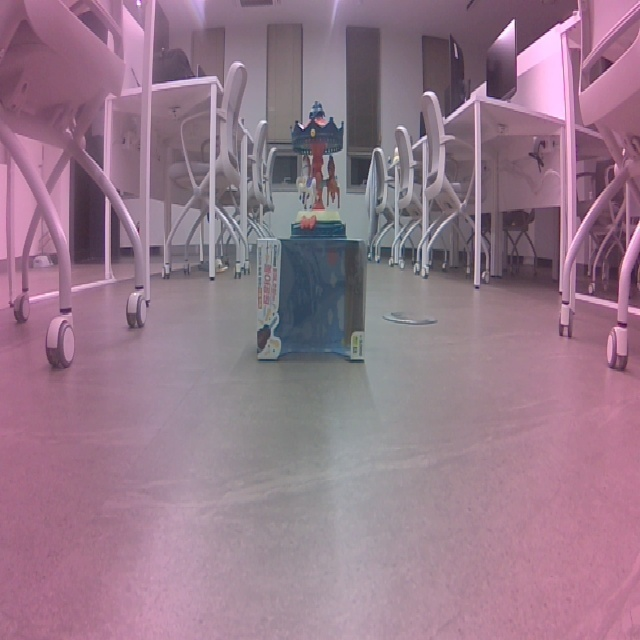목적지: (286, 98, 351, 241)
